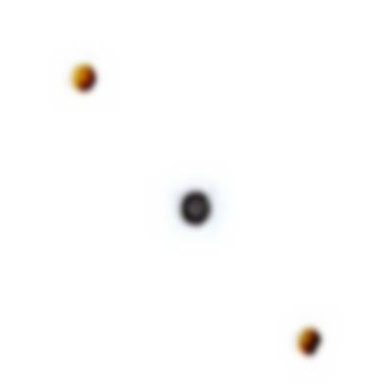cancer: (160, 171, 233, 246)
normal: (53, 44, 115, 106), (288, 311, 341, 371)
